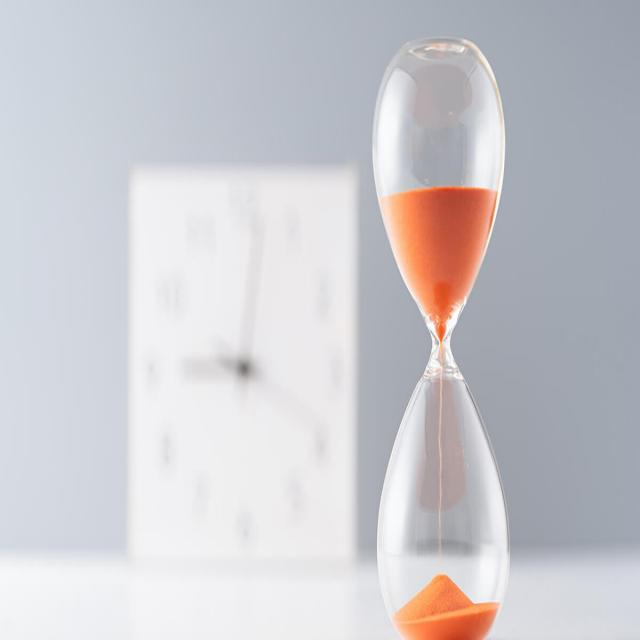clock: (319, 76, 573, 584)
